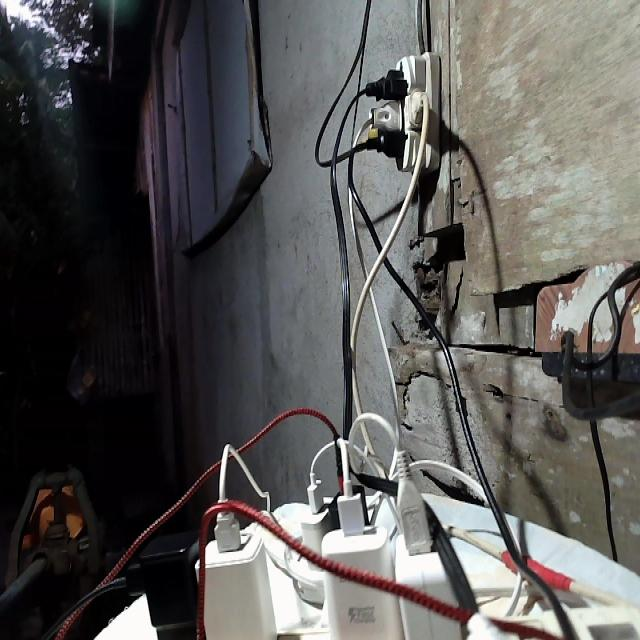-: (353, 49, 440, 172)
